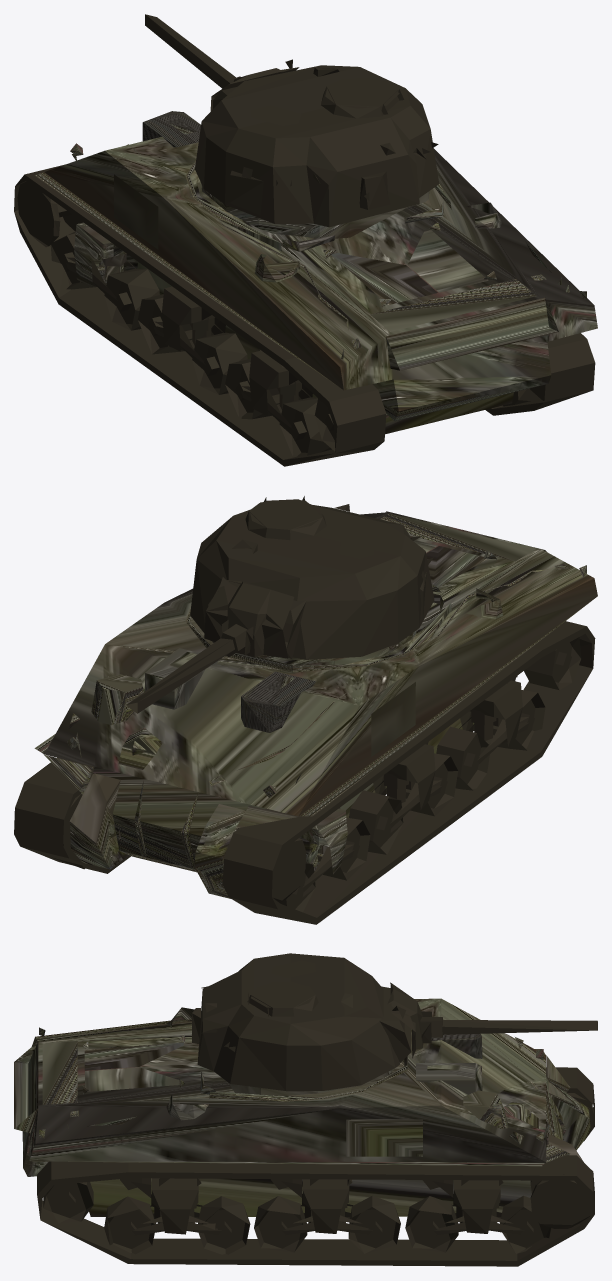
3 renders of one model, top to bottom at view 1: azimuth 30°, elevation 25°; view 2: azimuth 150°, elevation 25°; view 3: azimuth 270°, elevation 25°, orthographic. The views are drawn at different scales.
Visible parts, largest first — view 1: Object_4; view 2: Object_4; view 3: Object_4.
Part boxes in pixels (bbox=[...]): Object_4: bbox=[14, 14, 597, 466]; Object_4: bbox=[14, 496, 597, 924]; Object_4: bbox=[14, 953, 597, 1266].
Bounding box in the file's own units: 4.75 × 4.47 × 10.
1 material, 1 textured.
